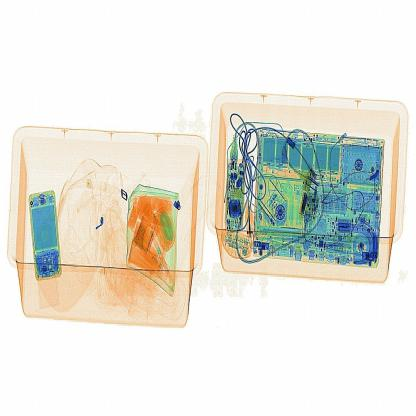wrench: (244, 194, 264, 254)
